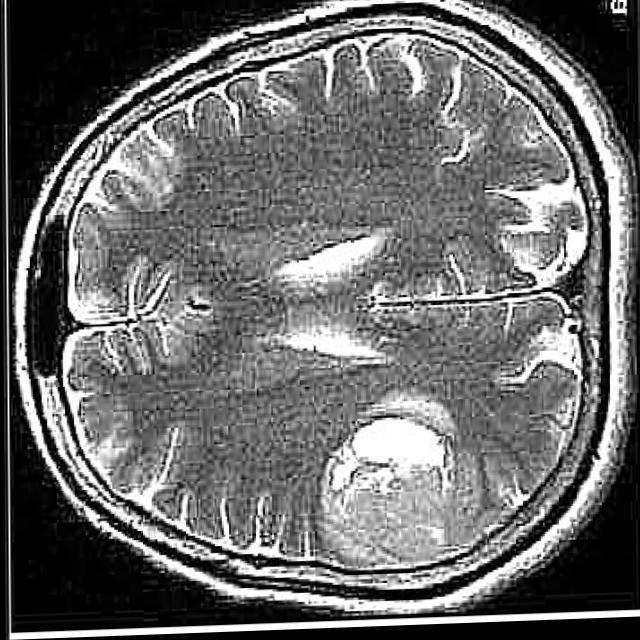Tumor: (317, 420, 457, 573)
